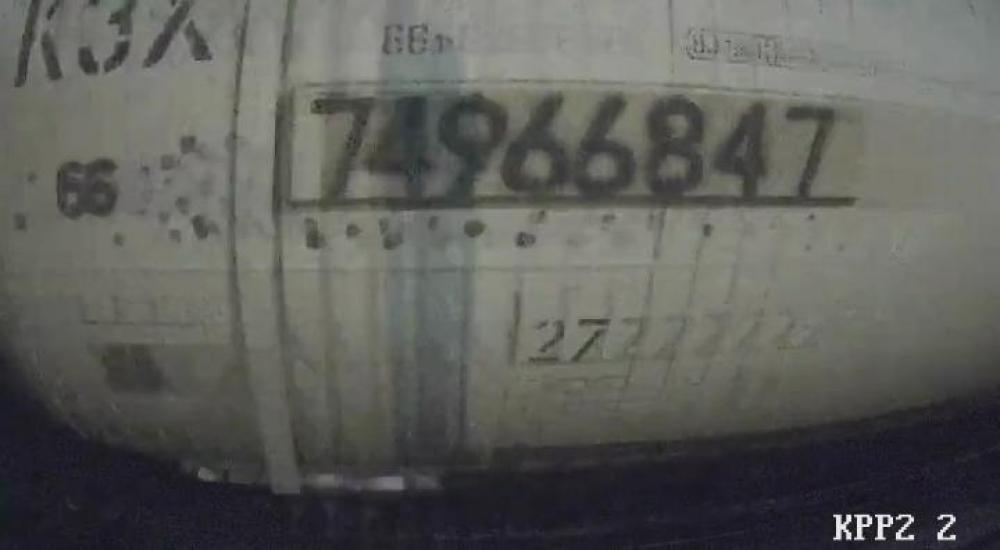Wagon-number: (300, 81, 836, 200)
